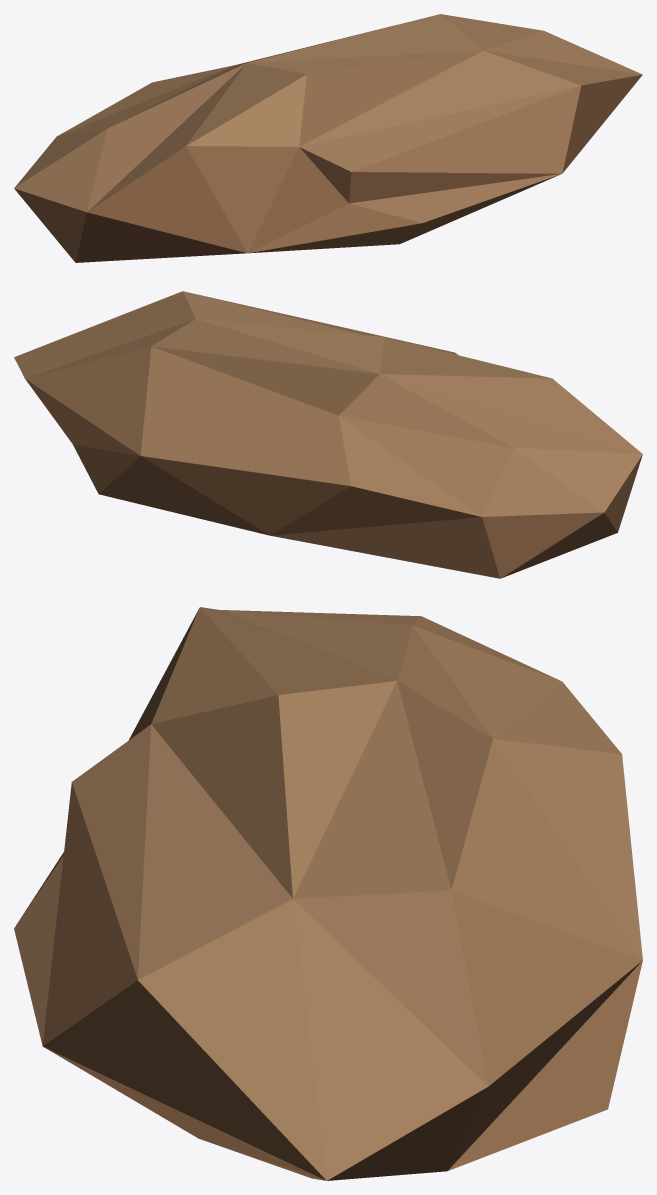
The model's file is RockC.glb.
The picture shows the model from 3 angles, top to bottom: view 1: azimuth 30°, elevation 25°; view 2: azimuth 150°, elevation 25°; view 3: azimuth 270°, elevation 25°; orthographic projection. The views are drawn at different scales.
Parts seen in each view (by area): view 1: RockC.001; view 2: RockC.001; view 3: RockC.001.
Part boxes in pixels (x1,y1,x2,y2): RockC.001: [14, 14, 642, 262]; RockC.001: [14, 291, 642, 578]; RockC.001: [14, 607, 642, 1180].
Size of the model in its own units: 1.47 by 0.3128 by 0.7277.
